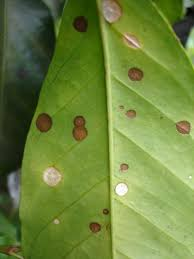ojo de gallo: (38, 109, 128, 244), (73, 1, 161, 96)
